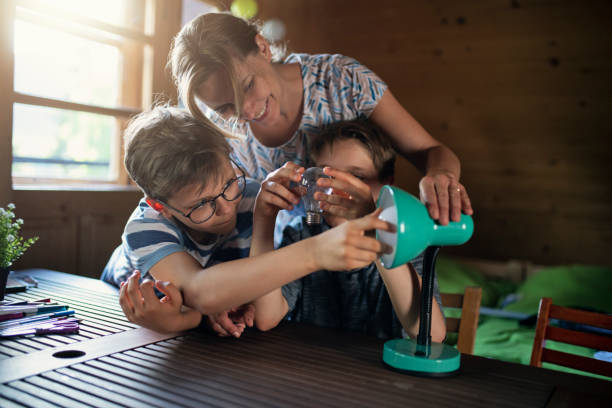without mask: (198, 43, 283, 129), (164, 157, 249, 243), (300, 138, 385, 224)
